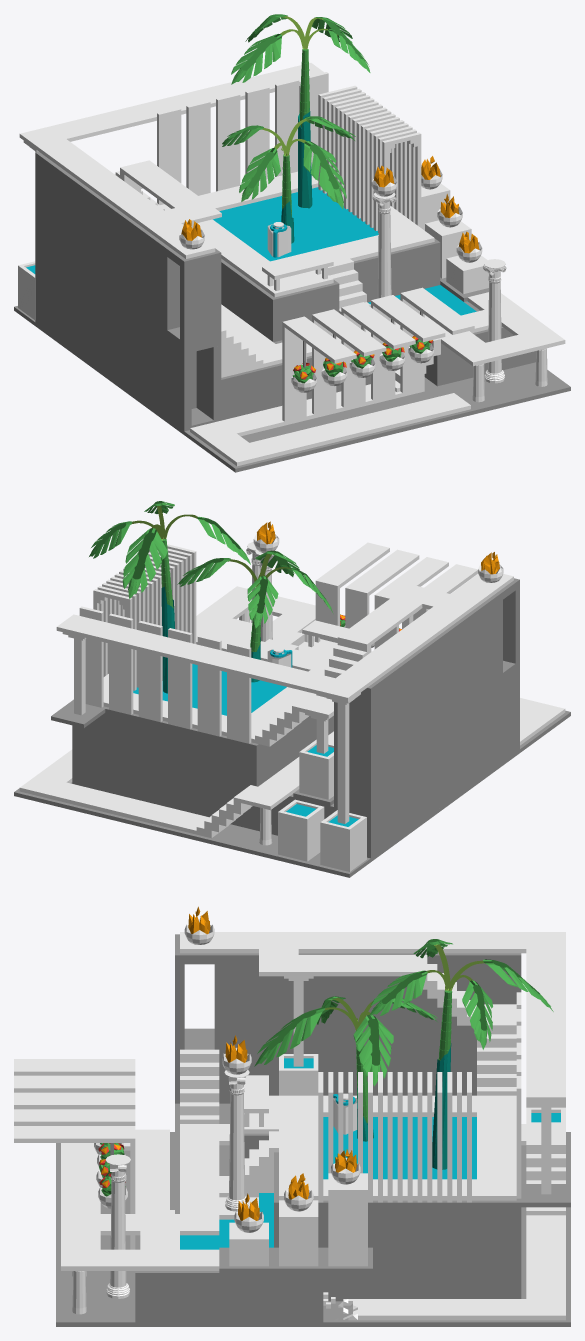
File: rands-estate.glb
3 views of the same model, one above another, from view 1: azimuth 30°, elevation 25°; view 2: azimuth 150°, elevation 25°; view 3: azimuth 270°, elevation 25° (orthographic). The views are drawn at different scales.
Visible parts, largest first — view 1: group1985186961, group1514500996, group1944951693, group2042304632, group1858596619, group1970550613, group1504427000, group2086771405, group1178011174, group825701325, group263129533, group1335515310 (+62 smaller); view 2: group1985186961, group107992486, group1514500996, group542405093, group1770826094, group825701325, group1178011174, group2086771405, group1335515310, group338836229, group1366171714, group341859668 (+56 smaller); view 3: group1985186961, group1155345528, group1514500996, group176421593, group1944951693, group825701325, group1095801682, group1855171422, group1107324268, group1791861932, group1407551502, group936420849 (+112 smaller).
Part boxes in pixels (x1,y1,x2,y2): group1985186961: [35, 151, 196, 418]; group1514500996: [14, 306, 570, 472]; group1944951693: [213, 187, 378, 261]; group2042304632: [180, 260, 221, 353]; group1858596619: [251, 280, 339, 342]; group1970550613: [354, 239, 440, 302]; group1504427000: [221, 363, 282, 420]; group2086771405: [186, 100, 210, 195]; group1178011174: [216, 93, 240, 191]; group825701325: [124, 163, 212, 213]; group263129533: [167, 342, 191, 427]; group1335515310: [275, 79, 299, 176]; group1985186961: [334, 591, 502, 858]; group107992486: [83, 706, 258, 830]; group1514500996: [14, 710, 570, 877]; group542405093: [278, 799, 324, 861]; group1770826094: [258, 715, 333, 785]; group825701325: [342, 590, 430, 644]; group1178011174: [168, 628, 192, 729]; group2086771405: [197, 635, 221, 736]; group1335515310: [109, 613, 133, 714]; group338836229: [227, 642, 251, 743]; group1366171714: [138, 621, 162, 722]; group341859668: [122, 528, 167, 598]; group1985186961: [214, 953, 521, 1103]; group1155345528: [318, 1198, 521, 1301]; group1514500996: [56, 1132, 570, 1326]; group176421593: [180, 1271, 323, 1322]; group1944951693: [323, 1117, 476, 1179]; group825701325: [279, 955, 417, 976]; group1095801682: [477, 1021, 516, 1095]; group1855171422: [279, 1200, 318, 1266]; group1107324268: [135, 1235, 179, 1322]; group1791861932: [14, 1075, 135, 1092]; group1407551502: [14, 1092, 135, 1109]; group936420849: [224, 1070, 249, 1211].
Bounding box in the file's own units: 1.82 × 1.39 × 2.25.
